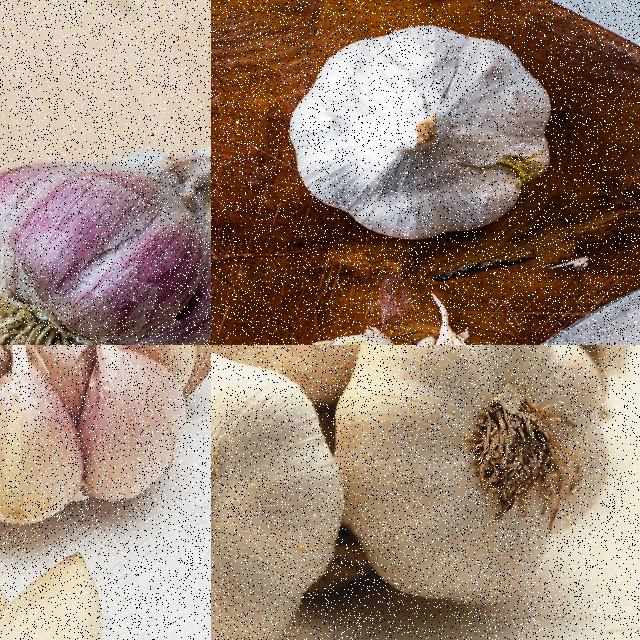garlic: (330, 345, 606, 609), (286, 20, 557, 244), (0, 147, 210, 344), (211, 350, 349, 639), (0, 345, 210, 529), (0, 549, 107, 639)
